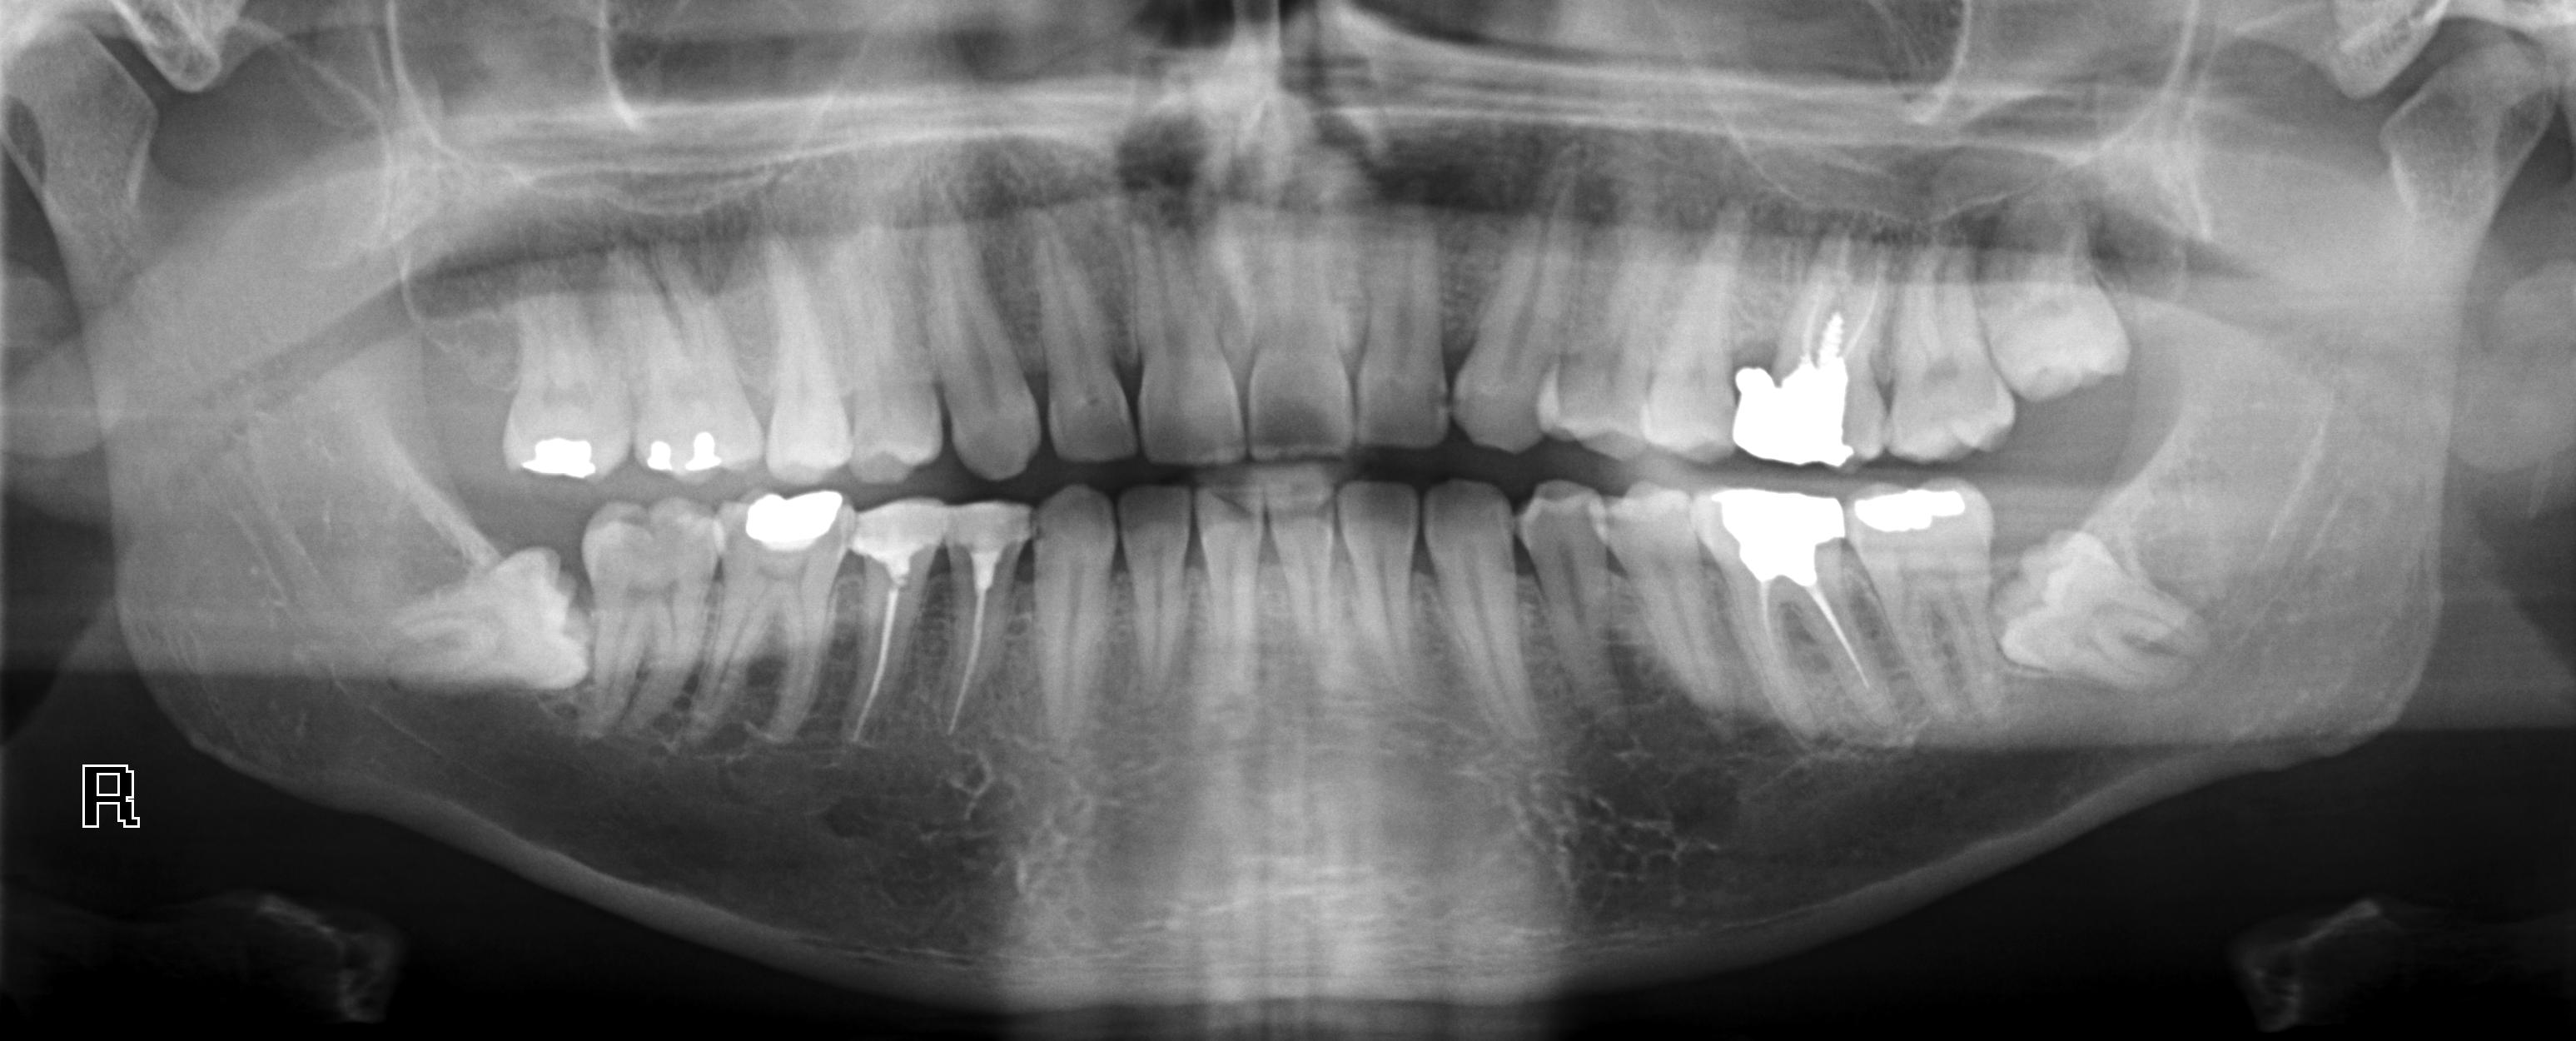Çürük: (1707, 488, 1847, 582), (1733, 375, 1865, 469), (862, 497, 948, 579), (1861, 483, 1968, 538), (739, 493, 836, 544), (527, 436, 618, 487), (950, 511, 1032, 562), (685, 419, 720, 480), (647, 436, 683, 482)
Çürük Bölgesi: (1746, 340, 1824, 395), (619, 510, 667, 543), (951, 538, 977, 585), (997, 541, 1022, 584), (1429, 388, 1451, 424)
